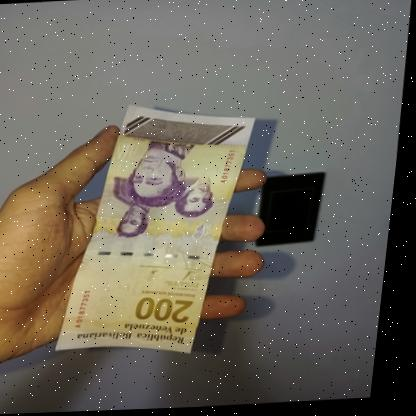two_hundred-front-vef: (56, 99, 264, 362)
